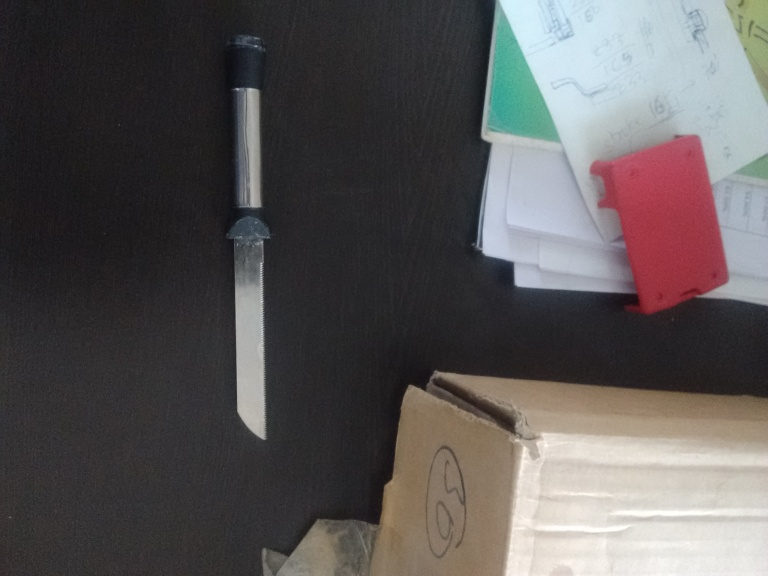knife: (225, 30, 274, 444)
